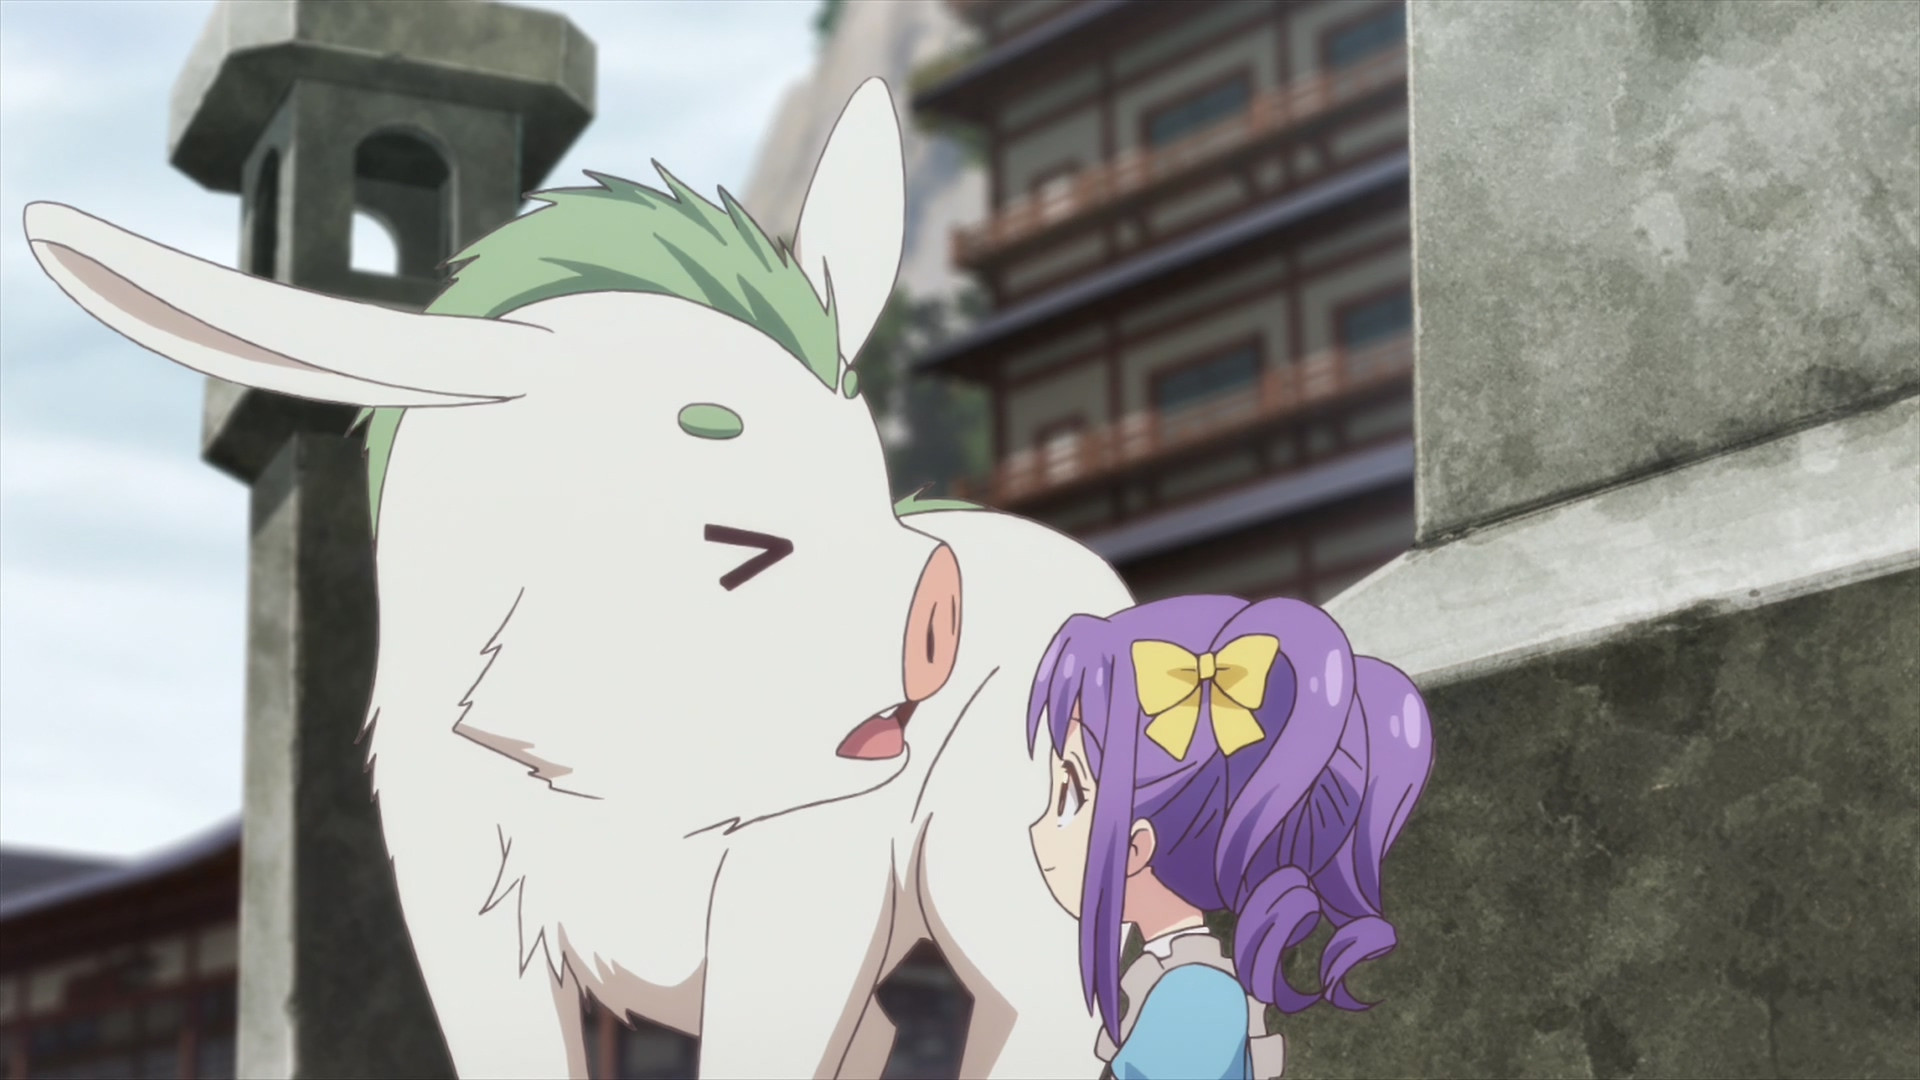瓜之介: (24, 79, 1137, 1080)
阿菊: (1029, 591, 1432, 1080)
